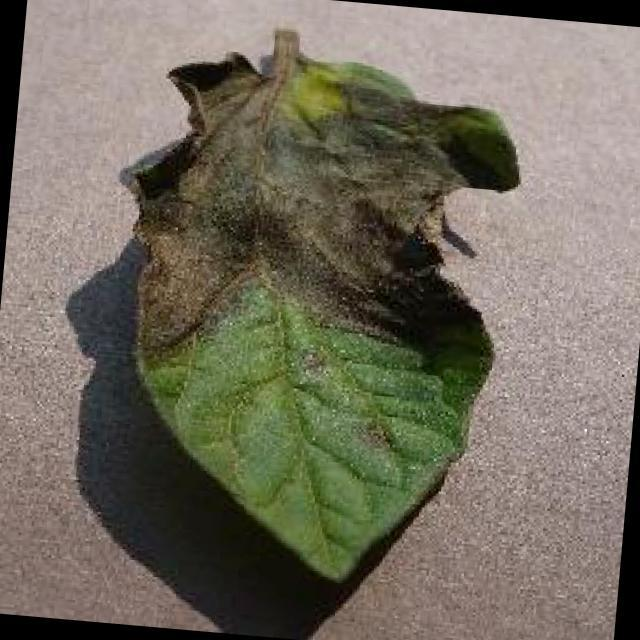Tomato late blight leaf: (85, 44, 532, 597)
